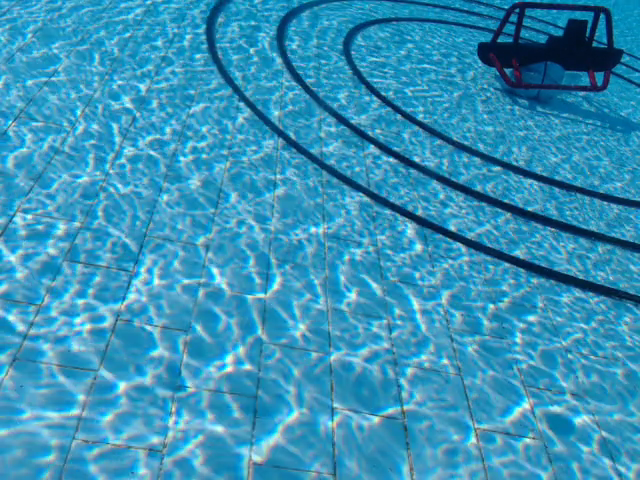submarine: (476, 1, 625, 95)
